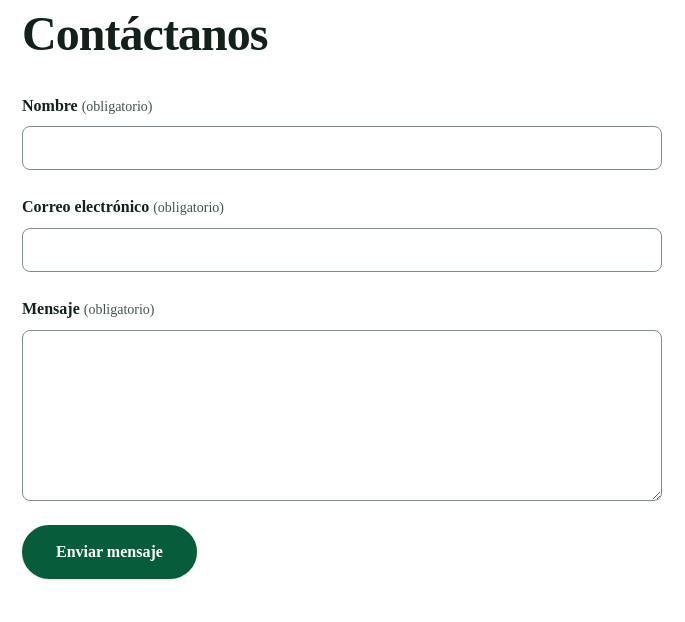
ContactForm › shows the Spanish errors on the Spanish page
The image size is (685, 622).
Step 1. Click the button "Enviar mensaje" → (109, 552), box [22,525,197,579]
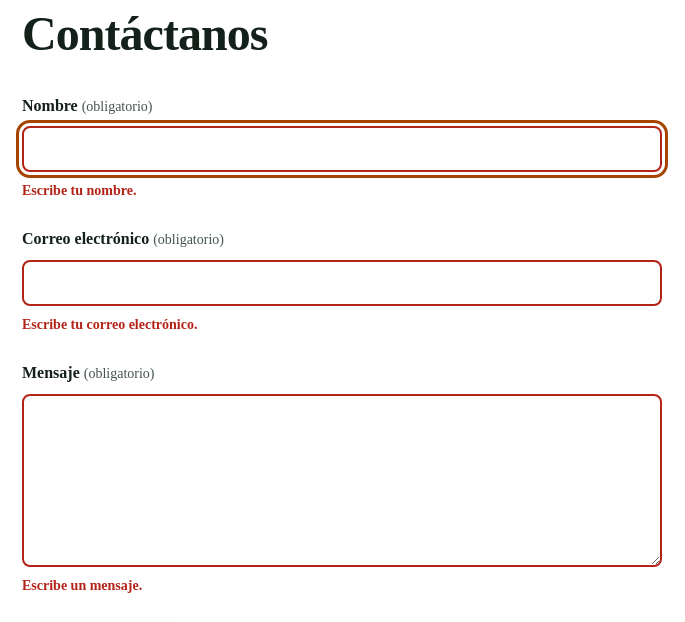
Expected: the text "Escribe tu nombre." is shown, [22,183,136,198]
Expected: the text "Escribe tu correo electrónico." is shown, [22,317,198,332]
Expected: the text "Escribe un mensaje." is shown, [22,578,142,593]
